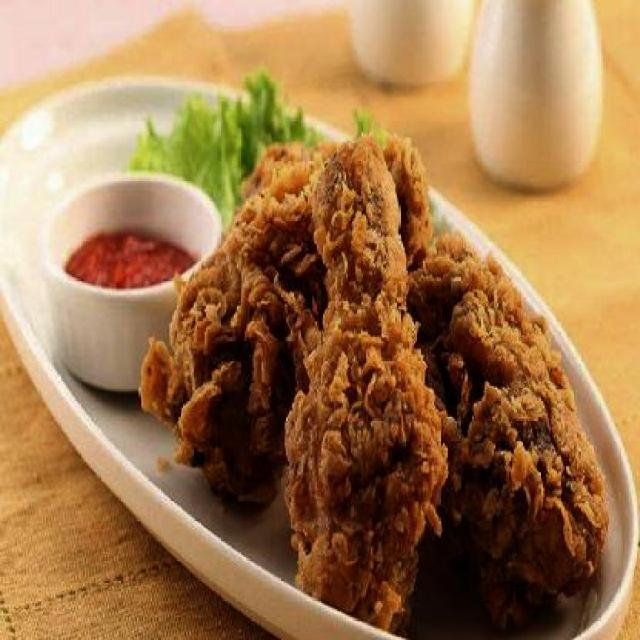Frango: (390, 145, 619, 586), (273, 122, 432, 608), (175, 98, 338, 474)
